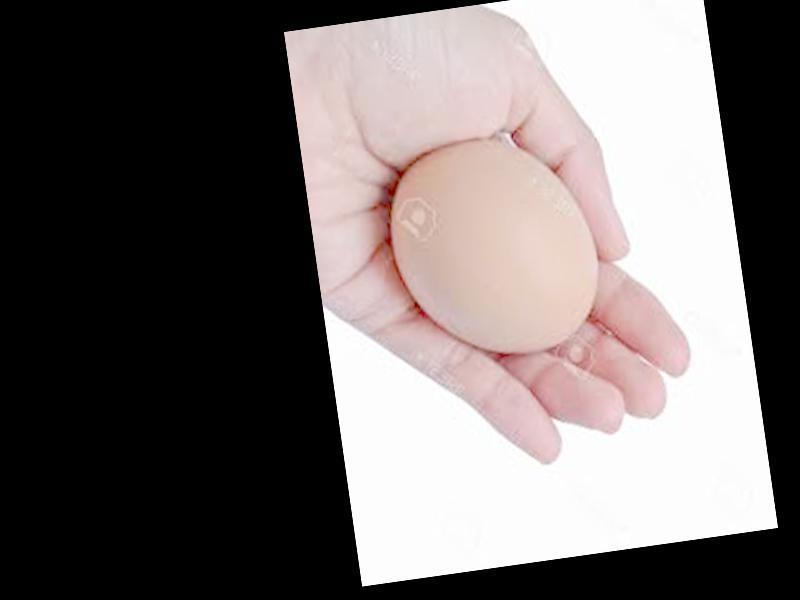Eggs: (382, 124, 608, 369)
